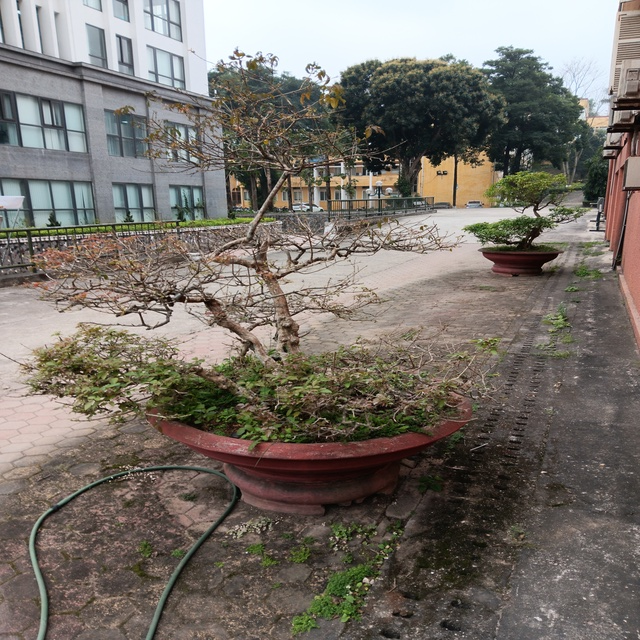caycanh: (27, 43, 477, 518), (468, 161, 584, 281)
